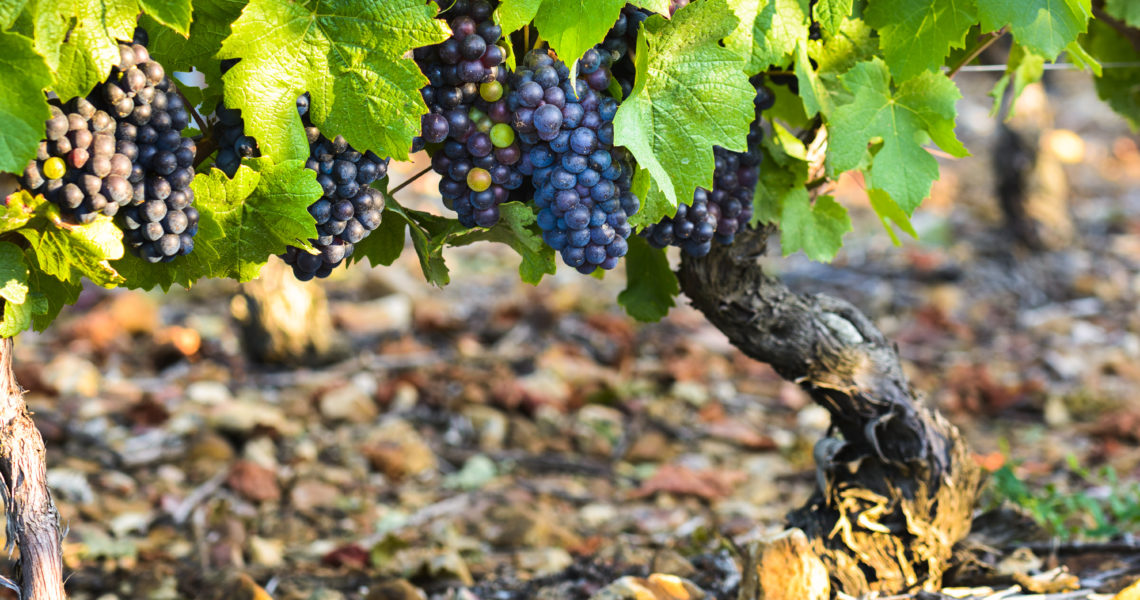Black grapes: (510, 26, 649, 280), (411, 4, 546, 245), (272, 70, 400, 293), (642, 75, 785, 265)
